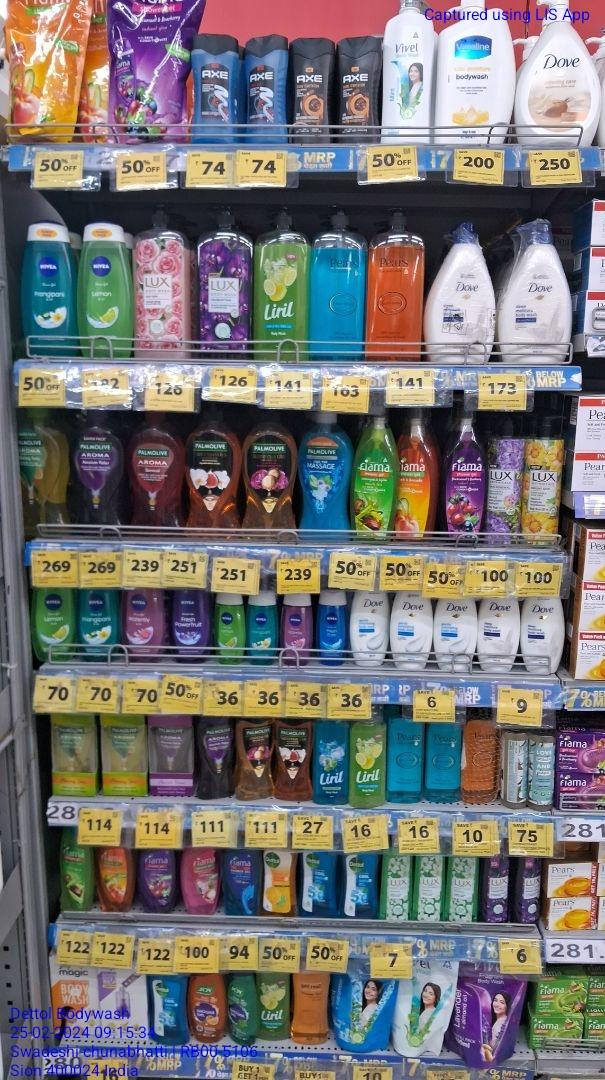Dettol_Bodywash_Cool: (148, 973, 188, 1045), (301, 852, 341, 917), (344, 854, 377, 918)
Dettol_Bodywash_Refresh: (263, 848, 297, 916)
Dove_Deep_Moisture_Body_Wash_250ML: (521, 597, 564, 674), (479, 600, 519, 671)
Dove_Gentle_Exfoliating_Body_Wash_250ML: (391, 590, 431, 671), (435, 599, 477, 671), (350, 588, 388, 666)
Fiama_Shower_Gel_Lemongrass_and_Jojoba_250ML: (62, 824, 89, 908)
Fiama_Shower_Gel_Patchouli_and_Macadamia_250ML: (182, 848, 216, 913)
Fiama_Shower_Gel_Peach_and_Avocado_250ML: (96, 847, 132, 911)
Get_Real_Shower_Gel_Moisturising_Glycerin_300ML: (293, 973, 329, 1043)
Joy_Shower_Gel_Mandarin_and_Lemongrass_250ML: (191, 973, 224, 1042)
Joy_Shower_Gel_Mint_and_Eucalyptus_250ML: (228, 973, 257, 1046)
Liril_Lime_and_Tea_Tree_Oil_Body_Wash_250ML: (260, 974, 288, 1039)
Lux_Black_Orchid_Scent_and_Juniper_Oil_Body_Wash_245ML: (484, 856, 509, 921), (519, 858, 541, 922)
Lux_Body_Wash_Skin_Detox_Freesia_Scent_and_Alove_Vera_245ML: (446, 856, 478, 920), (383, 853, 411, 921), (416, 855, 444, 921)
Nivea_Shower_Gel_Frangipani_and_Oil_250ML: (19, 221, 74, 355), (80, 587, 120, 659)
Nivea_Shower_Gel_Fresh_Powerfruit_250ML: (171, 590, 210, 661)
Nivea_Shower_Gel_Lemon_and_Oil_250ML: (79, 223, 131, 356), (31, 585, 74, 658)
Nivea_Shower_Gel_Waterlily_and_Oil_250ML: (126, 589, 166, 660)
